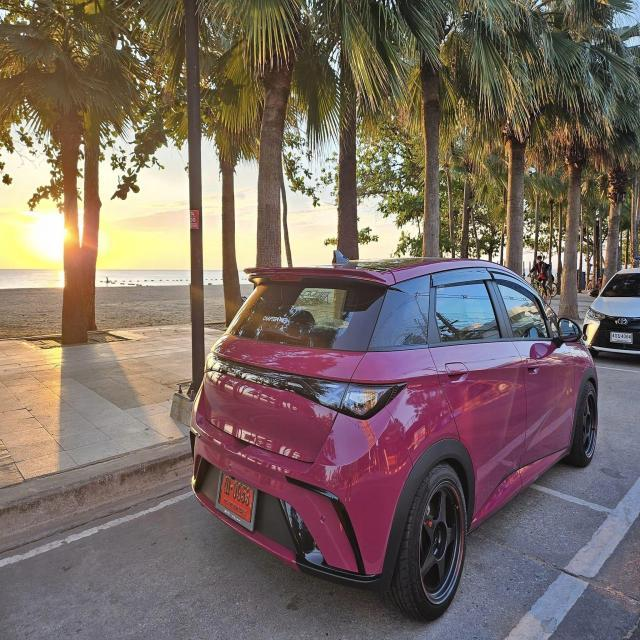Hatchback: (191, 260, 596, 624)
